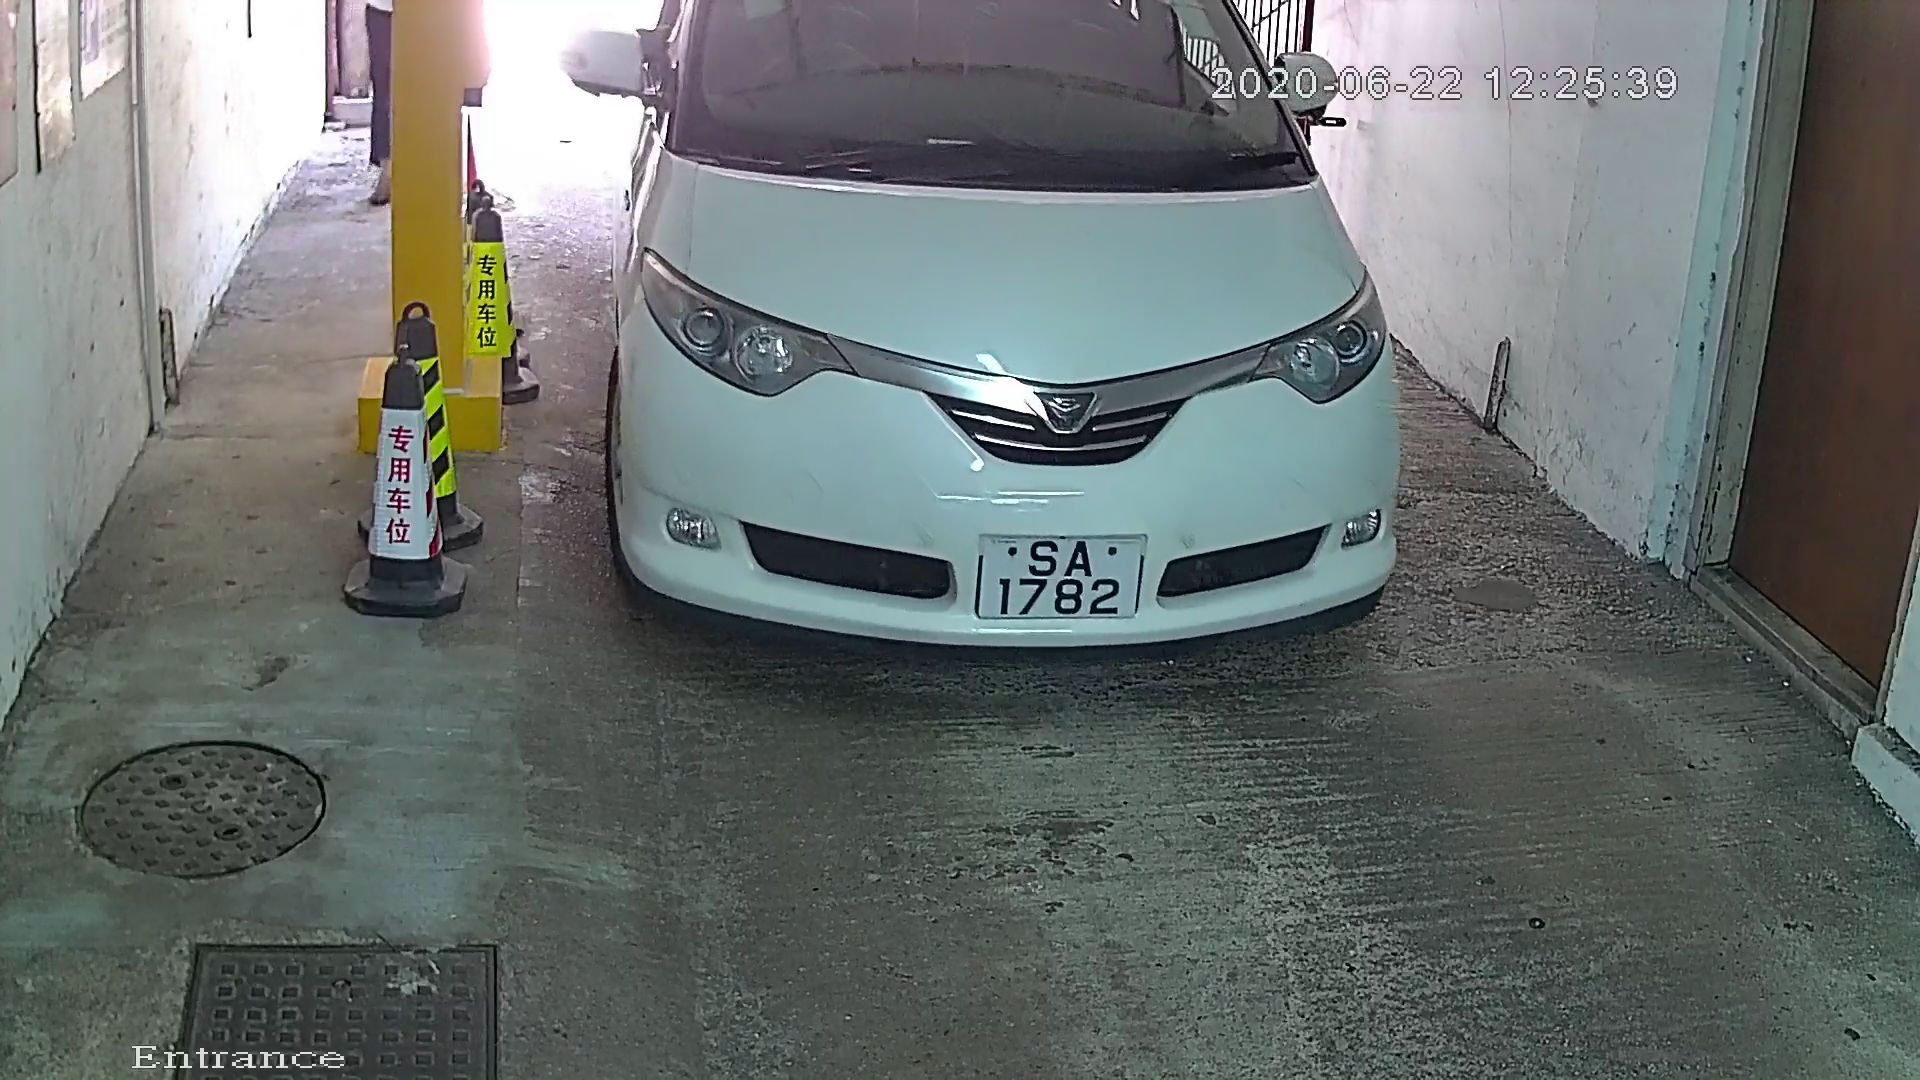privatecar: (549, 1, 1456, 715)
